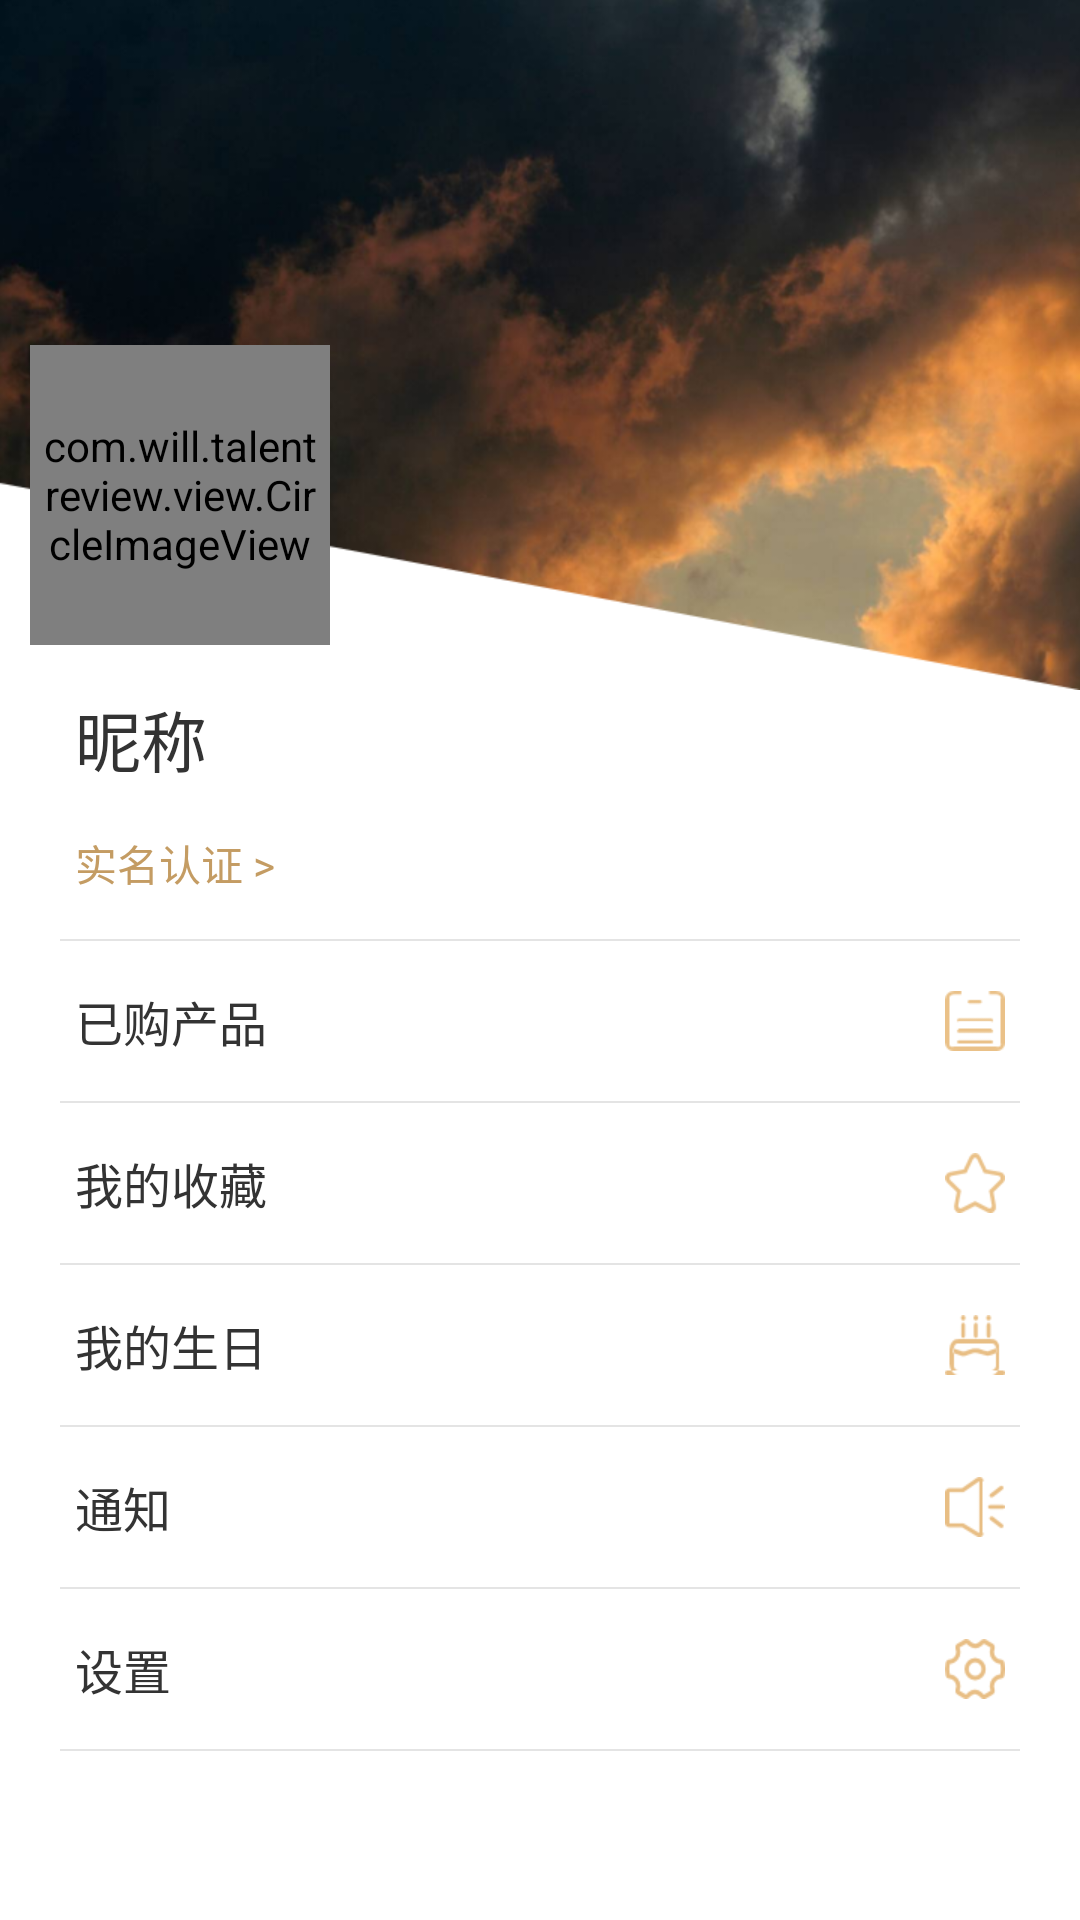

Icon bounding boxes for this 1080w x 1920h phone screenshot, format (x1, y1, x2, y2):
birthday: (945, 1315, 1005, 1375)
bought: (945, 991, 1005, 1051)
collection: (945, 1153, 1005, 1213)
config: (945, 1639, 1005, 1699)
notice: (945, 1477, 1005, 1537)
